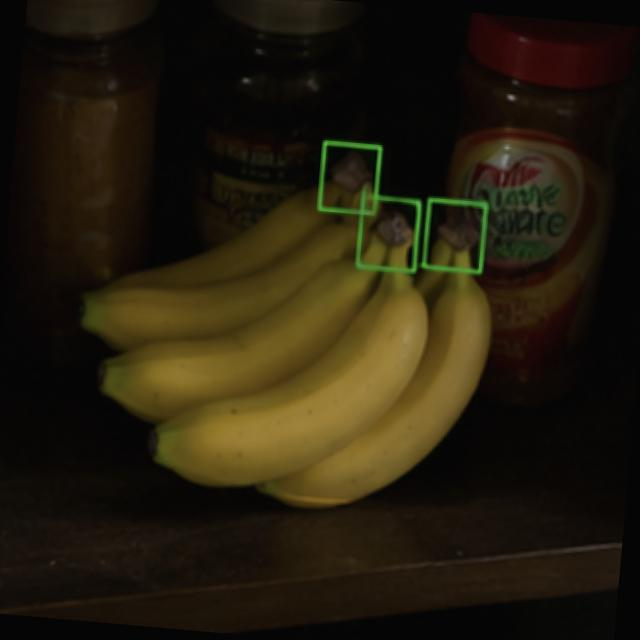Fruit-Stem-Detection: (348, 184, 419, 274), (314, 136, 388, 218), (409, 198, 490, 272)
